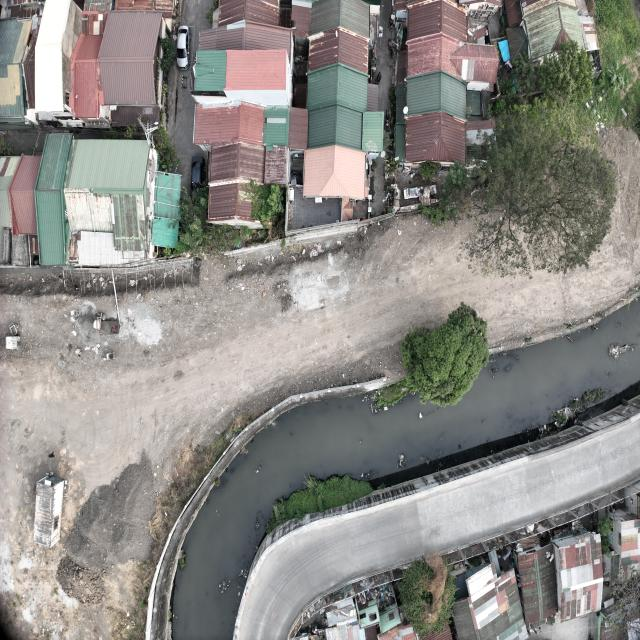Tree: (454, 124, 617, 286), (402, 301, 491, 412), (400, 552, 457, 638), (531, 37, 595, 108)
